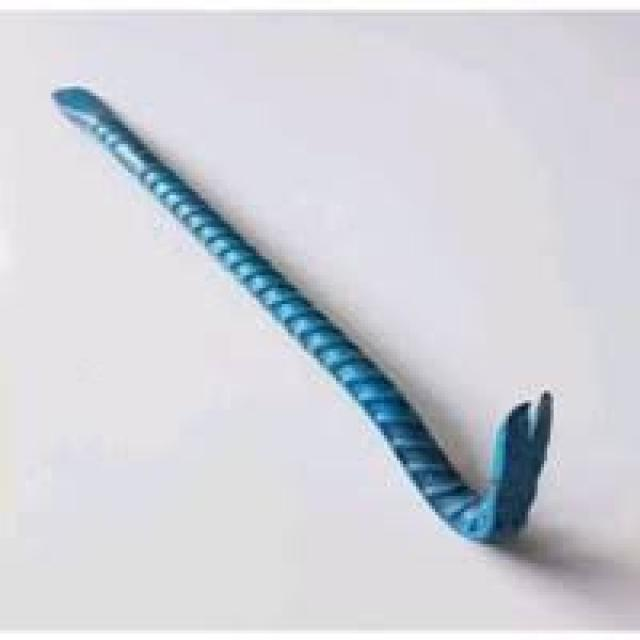Linggis: (39, 81, 571, 552)
